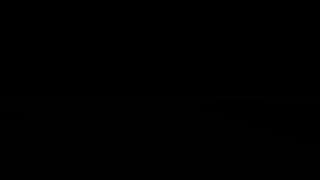turn_left: (171, 62, 184, 75)
